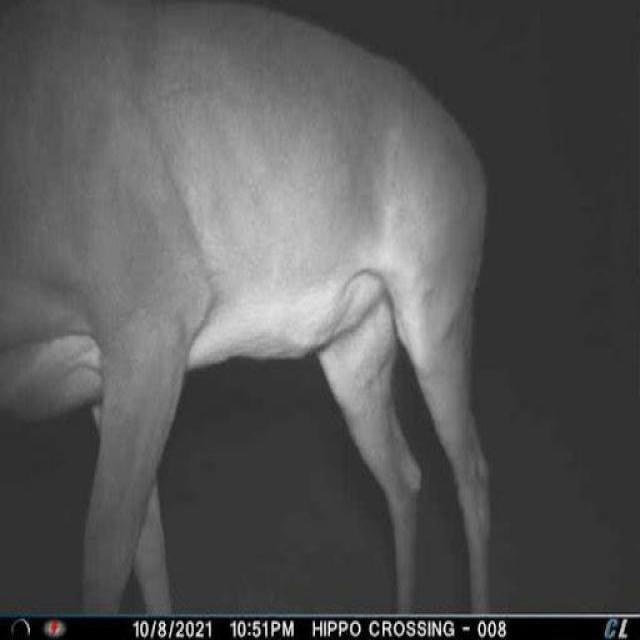deer: (0, 0, 509, 613)
